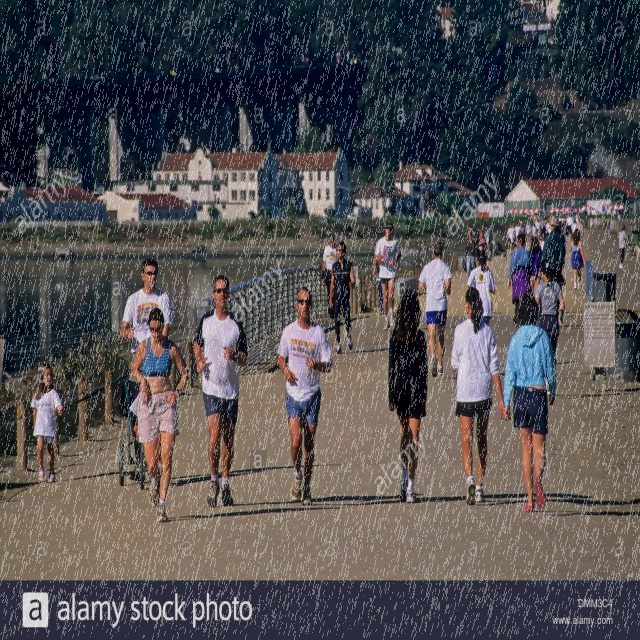pessoa: (192, 274, 247, 508), (131, 306, 189, 524), (276, 285, 332, 508), (449, 286, 506, 504), (504, 289, 558, 516), (120, 256, 172, 483), (387, 288, 428, 504), (416, 241, 452, 377), (30, 363, 64, 484), (534, 258, 565, 368), (328, 238, 356, 354), (374, 220, 402, 330), (466, 249, 496, 325), (508, 234, 531, 328), (538, 216, 566, 283), (320, 232, 339, 322), (568, 227, 586, 290), (527, 236, 543, 298), (373, 256, 386, 316), (464, 230, 476, 281), (618, 223, 630, 270), (484, 224, 496, 262), (616, 204, 634, 226), (506, 222, 516, 256), (476, 230, 488, 257), (554, 212, 586, 220), (576, 218, 584, 244), (566, 214, 574, 238), (524, 220, 532, 243), (561, 220, 568, 246), (530, 221, 539, 241), (570, 220, 578, 242), (514, 222, 522, 242), (534, 218, 541, 240), (467, 226, 475, 241), (545, 220, 552, 236), (588, 214, 594, 232), (504, 208, 513, 220), (517, 220, 525, 233), (558, 220, 564, 236), (594, 213, 598, 234), (558, 216, 566, 226), (540, 216, 546, 228), (580, 216, 586, 228), (601, 214, 604, 223)
